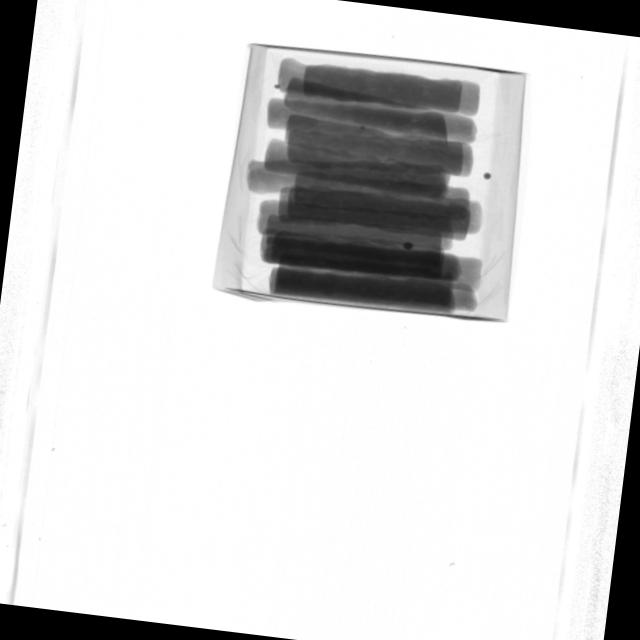ym: (403, 241, 414, 251), (484, 174, 492, 180), (275, 84, 281, 90), (360, 126, 365, 131)
